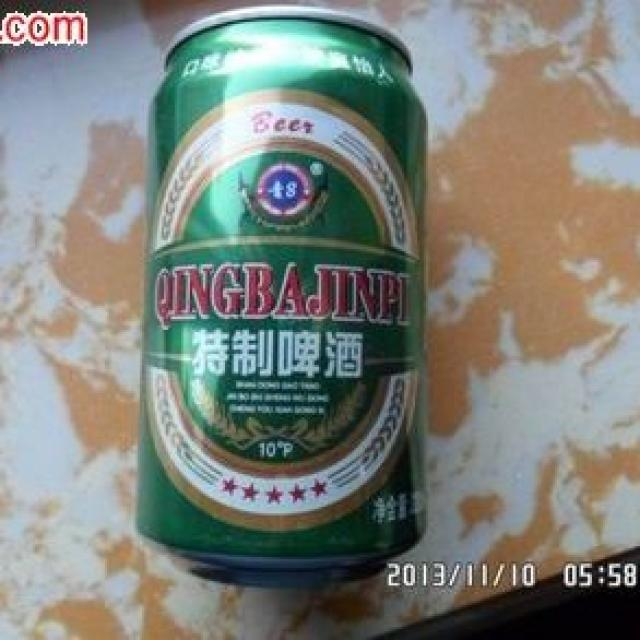-Recyclables - can-: (129, 6, 431, 592)
